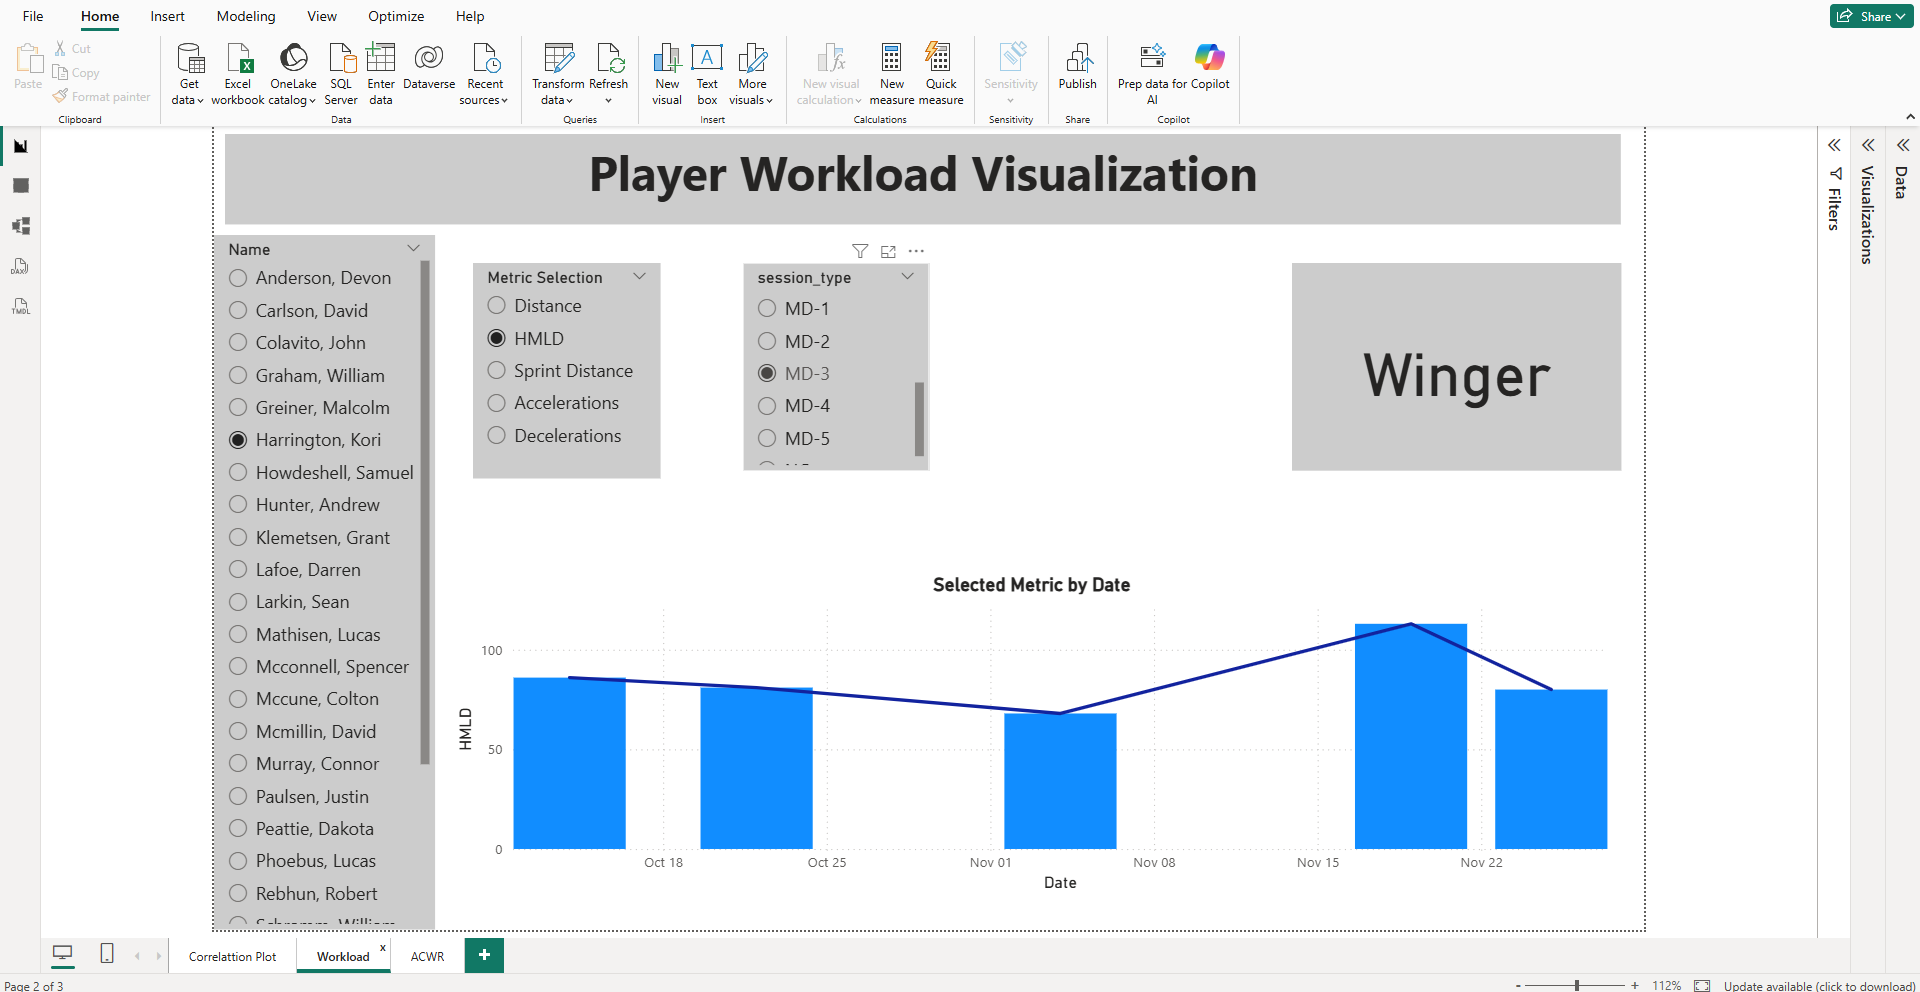

This screenshot's page, from the dashboard's own definition file:
{"tool":"powerbi","page":{"name":"Workload","canvas":[1280,720],"ordinal":1},"visuals":[{"type":"slicer","fields":{"Values":["daily_gps_data.Name"]},"box":[0,97.6,197.9,622.4],"z":2000},{"type":"textbox","box":[9.9,7.2,1250.1,80.6],"z":2001},{"type":"lineStackedColumnComboChart","title":"Selected Metric by Date","fields":{"Category":["daily_gps_data.Date"],"Y":["daily_gps_data.Total HMLD"],"Y2":["daily_gps_data.Total HMLD"]},"box":[212.2,400.3,1040.6,290.1],"z":2002},{"type":"slicer","fields":{"Values":["daily_gps_data.session_type"]},"box":[473.7,122.7,166.6,186.3],"z":2003},{"type":"slicer","fields":{"Values":["Metric Selection.Metric Selection"]},"box":[231.9,122.7,168.4,193.4],"z":2004},{"type":"card","fields":{"Values":["Min(daily_gps_data.Position)"]},"box":[965.4,122.7,294.6,186.3],"z":2005}]}

Visuals, with their boxes on the page's 1280x720 design canvas (x1, y1, x2, y2). These are canvas units, not pixel positions in the 1920x992 screenshot, which may show the page scaled, cropped or inside an application window:
slicer - daily_gps_data.Name: left=0, top=98, right=198, bottom=720
textbox: left=10, top=7, right=1260, bottom=88
"Selected Metric by Date" lineStackedColumnComboChart: left=212, top=400, right=1253, bottom=690
slicer - daily_gps_data.session_type: left=474, top=123, right=640, bottom=309
slicer - Metric Selection.Metric Selection: left=232, top=123, right=400, bottom=316
card - Min(daily_gps_data.Position): left=965, top=123, right=1260, bottom=309
